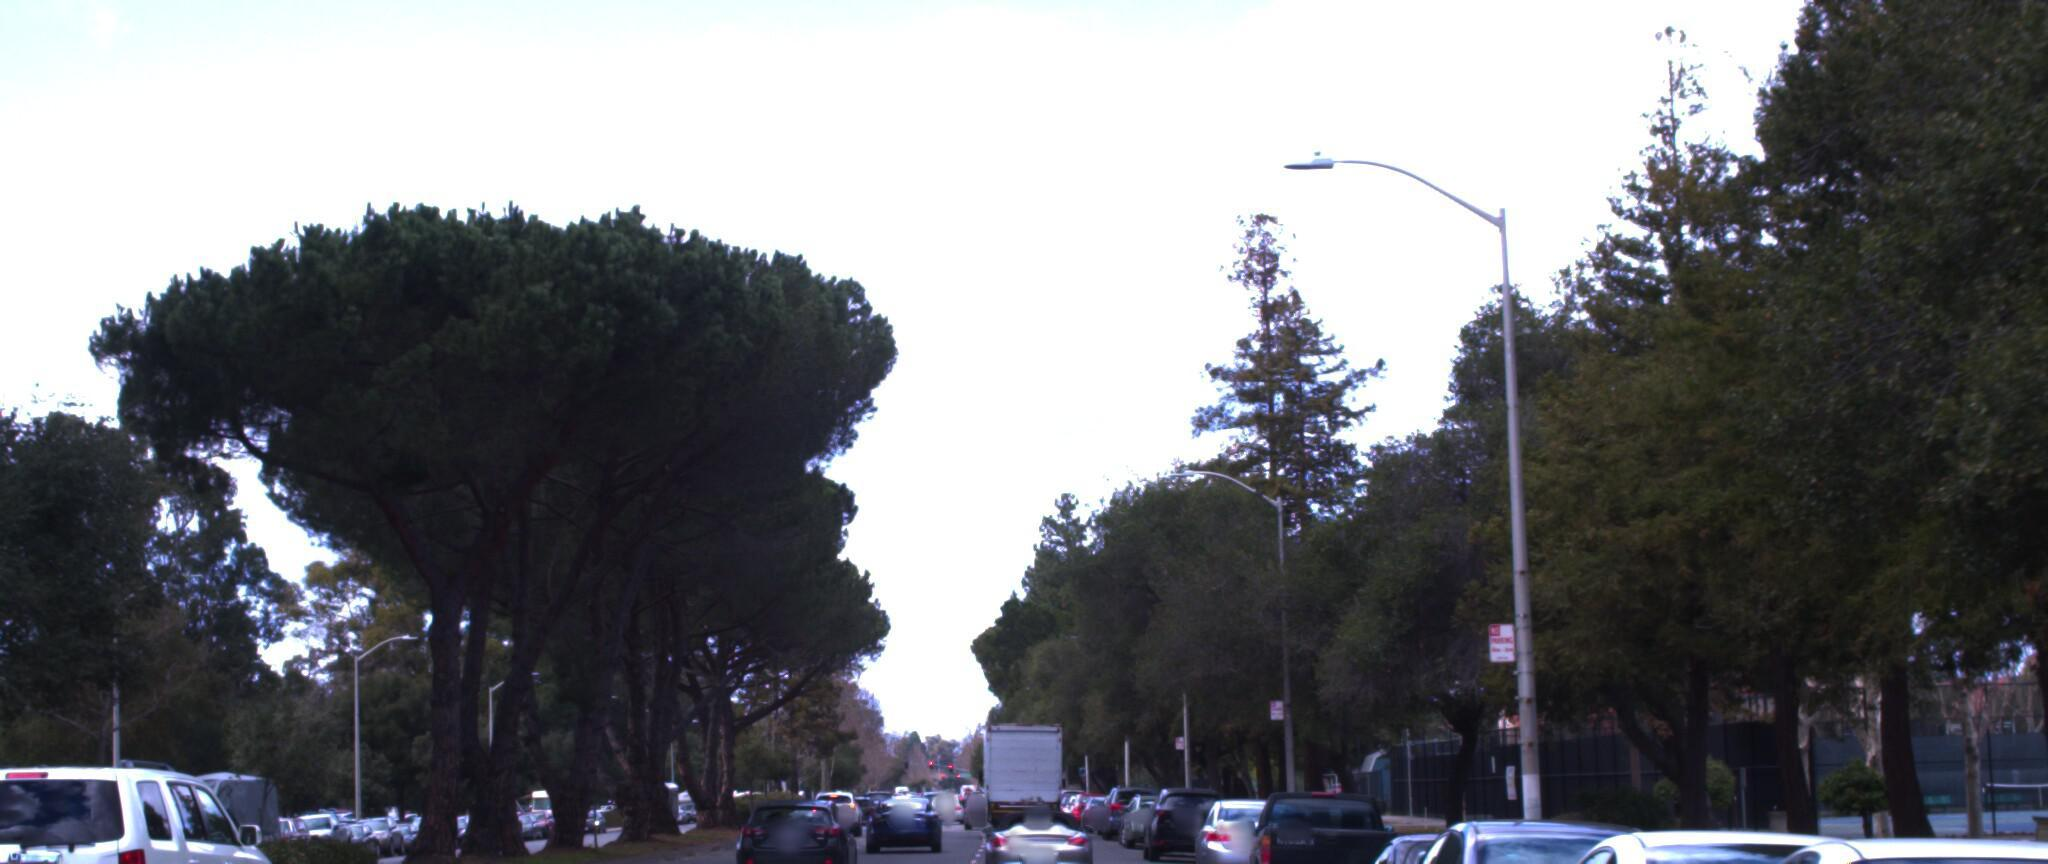car: (0, 736, 315, 864), (1462, 799, 2036, 864), (1596, 796, 2048, 864), (1361, 790, 1721, 864), (1307, 801, 1596, 864), (1230, 762, 1404, 864), (963, 764, 1095, 864), (1181, 773, 1314, 864), (729, 775, 859, 864), (1132, 760, 1232, 838), (858, 767, 942, 827)
